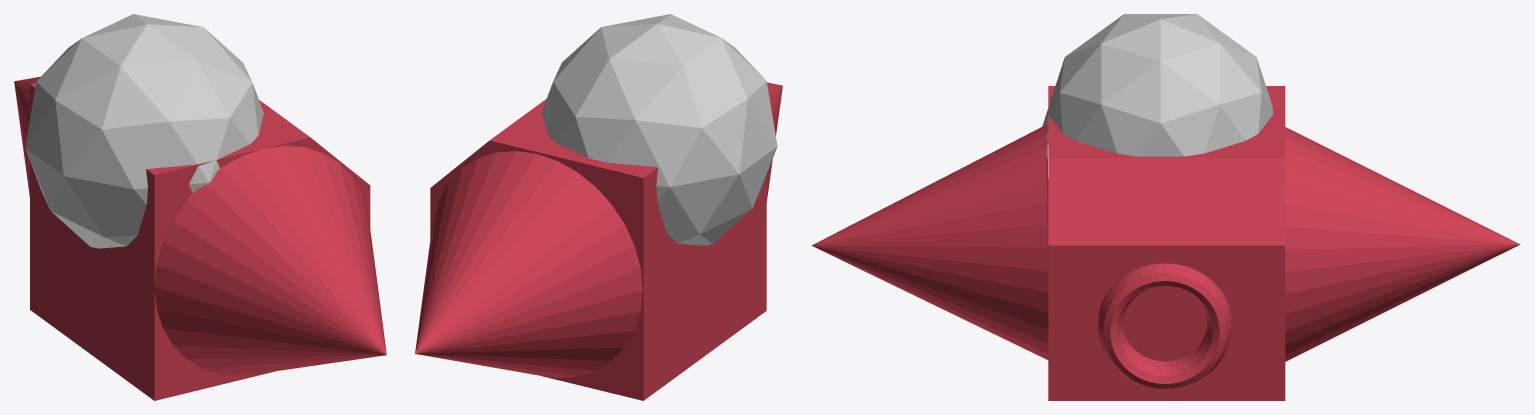
The model's file is demonBrain.obj.
The picture shows the model from 3 angles, left to right: view 1: azimuth 30°, elevation 25°; view 2: azimuth 150°, elevation 25°; view 3: azimuth 270°, elevation 25°; orthographic projection. The views are drawn at different scales.
Parts seen in each view (by area): view 1: Cube, Icosphere; view 2: Cube, Icosphere; view 3: Cube, Icosphere.
Boxes of the visible parts, bbox=[...] form: Cube: bbox=[14, 76, 386, 400]; Icosphere: bbox=[25, 14, 263, 248]; Cube: bbox=[415, 82, 782, 400]; Icosphere: bbox=[542, 14, 777, 245]; Cube: bbox=[811, 86, 1520, 400]; Icosphere: bbox=[1042, 14, 1272, 156].
Size of the model in its own units: 2.7 by 2.85 by 5.98.
